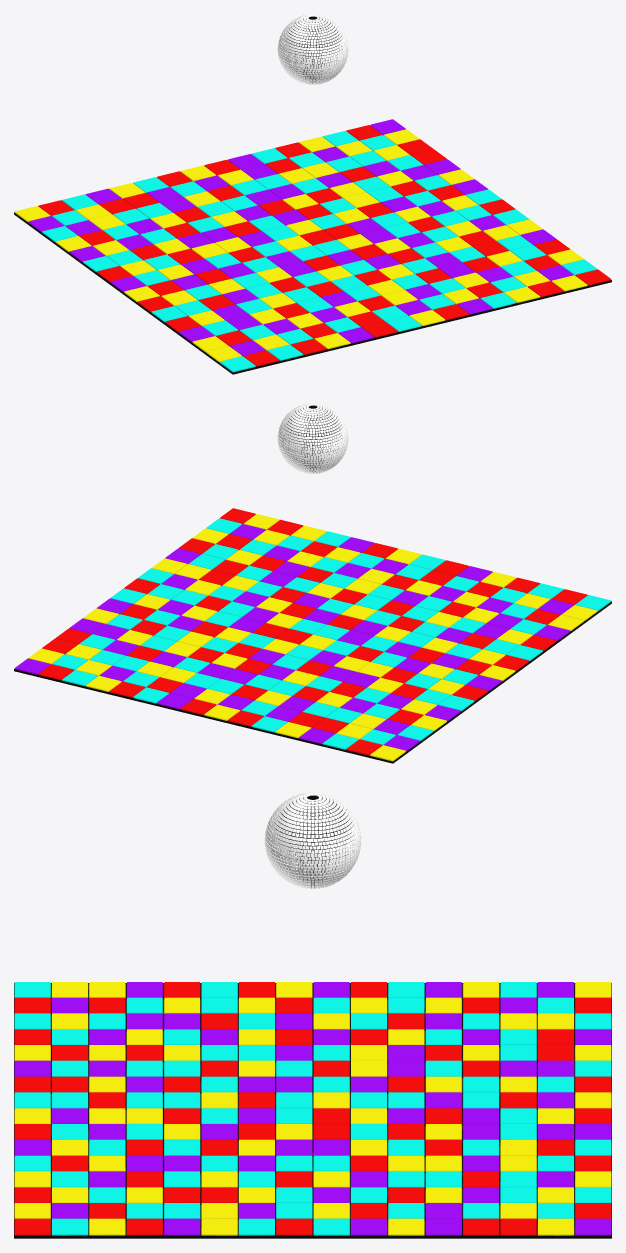
File: disco_ball__dance_floor (1).glb
The picture shows the model from 3 angles, top to bottom: view 1: azimuth 30°, elevation 25°; view 2: azimuth 150°, elevation 25°; view 3: azimuth 270°, elevation 25°; orthographic projection. The views are drawn at different scales.
Parts seen in each view (by area): view 1: Dance Floor, Disco Ball; view 2: Dance Floor, Disco Ball; view 3: Dance Floor, Disco Ball.
Boxes of the visible parts, x1,y1,x2,y2 form: Dance Floor: (14,119,611,374); Disco Ball: (277,14,348,84); Dance Floor: (14,508,611,763); Disco Ball: (277,403,348,473); Dance Floor: (14,982,611,1238); Disco Ball: (264,792,361,888).
Bounding box in the file's own units: 5 × 2.91 × 5.
Materials: 2 (2 with a texture image).
